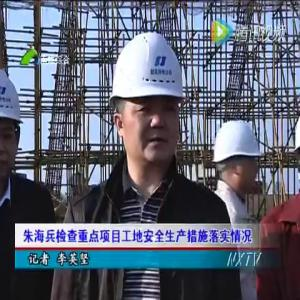white: (110, 31, 187, 169), (212, 120, 262, 194), (2, 69, 23, 185)
